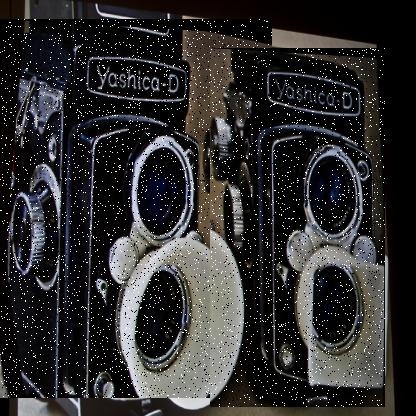Camera: (1, 20, 274, 400), (211, 49, 387, 409)
